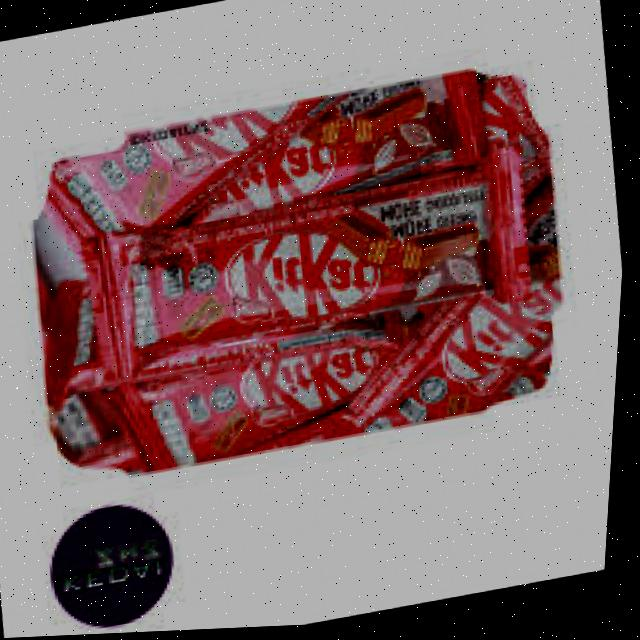kitkat: (86, 166, 539, 391), (180, 72, 498, 246), (113, 299, 419, 474)
